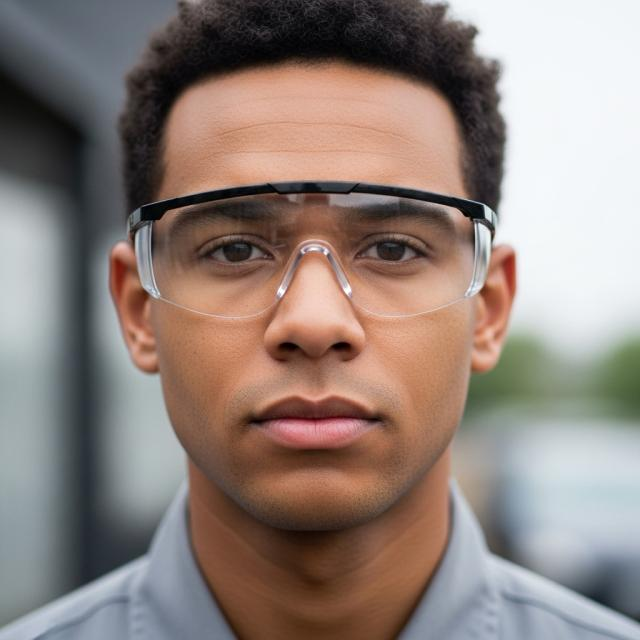oculos-epi: (129, 181, 495, 318)
